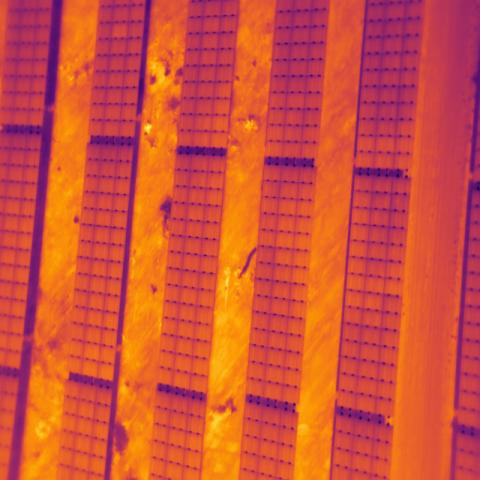fault: (112, 22, 129, 39)
